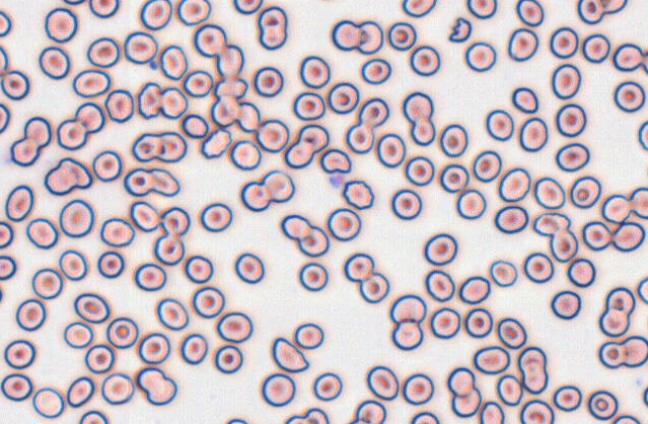PLT: (329, 174, 344, 190)
RBC: (43, 156, 92, 195), (135, 366, 177, 405), (517, 346, 548, 394), (58, 198, 94, 238), (256, 5, 287, 50), (260, 372, 295, 407), (326, 207, 361, 241), (44, 7, 77, 43), (216, 311, 253, 343), (193, 23, 227, 57), (255, 118, 289, 152), (123, 30, 157, 64), (423, 232, 457, 266), (366, 365, 399, 400), (72, 68, 110, 98), (4, 184, 34, 222), (261, 169, 295, 202), (100, 372, 134, 405), (191, 285, 225, 318), (155, 297, 189, 330), (498, 167, 530, 202), (375, 132, 406, 168), (73, 292, 109, 323), (550, 63, 581, 99), (389, 294, 426, 324), (472, 345, 510, 374), (401, 372, 434, 405), (38, 45, 70, 79), (86, 36, 120, 68), (158, 44, 188, 80), (99, 217, 135, 247), (518, 116, 548, 152), (296, 225, 329, 257), (25, 217, 58, 249), (327, 81, 359, 114), (613, 80, 645, 113), (137, 332, 170, 364), (569, 175, 601, 208), (533, 176, 565, 209), (611, 221, 645, 252), (507, 27, 538, 61), (555, 103, 586, 137), (214, 43, 244, 78), (104, 88, 134, 123), (555, 142, 590, 172), (155, 131, 187, 163), (56, 118, 88, 150), (200, 127, 232, 159), (31, 267, 63, 299), (390, 188, 422, 220), (408, 44, 440, 76), (106, 316, 138, 348), (341, 179, 374, 210), (91, 149, 122, 182), (299, 55, 330, 88), (424, 269, 455, 302), (32, 387, 65, 418), (15, 298, 46, 331), (74, 101, 105, 133), (330, 19, 361, 51), (402, 91, 433, 123), (391, 319, 423, 350), (358, 271, 389, 303), (229, 139, 261, 170), (129, 200, 160, 232), (357, 97, 389, 128), (153, 233, 184, 265), (523, 251, 554, 283), (496, 317, 527, 349), (429, 307, 460, 339), (464, 41, 496, 72), (199, 202, 232, 232), (139, 0, 172, 30), (472, 149, 502, 182), (549, 228, 578, 262), (439, 123, 468, 157), (494, 205, 528, 234), (450, 386, 481, 417), (84, 343, 115, 374), (455, 188, 486, 219), (587, 389, 618, 420), (210, 95, 240, 127), (234, 252, 264, 284), (3, 339, 35, 369), (58, 249, 88, 281), (159, 86, 188, 119), (292, 91, 325, 120), (458, 275, 491, 304), (137, 81, 162, 119), (532, 211, 570, 236), (149, 167, 180, 197), (240, 180, 270, 211), (598, 307, 629, 337), (343, 252, 374, 282), (582, 220, 612, 251), (253, 66, 283, 97), (404, 155, 434, 186), (550, 290, 581, 320), (131, 133, 163, 162), (297, 123, 329, 152), (134, 262, 166, 291), (549, 26, 578, 58), (485, 109, 514, 141), (0, 373, 33, 401), (180, 332, 208, 365), (356, 20, 383, 54), (176, 0, 211, 26), (160, 206, 190, 236), (298, 261, 328, 291), (601, 193, 631, 223), (213, 344, 243, 374), (312, 371, 342, 401), (439, 163, 469, 193), (566, 257, 596, 287), (123, 167, 154, 196), (9, 137, 40, 166), (283, 140, 314, 169), (0, 69, 29, 100), (345, 123, 374, 154), (612, 42, 643, 71), (464, 307, 493, 338), (23, 116, 51, 148), (495, 374, 523, 406), (605, 286, 635, 315), (446, 366, 475, 396), (387, 21, 416, 51), (581, 33, 610, 63), (182, 69, 213, 97), (360, 57, 391, 85), (66, 376, 94, 407), (319, 147, 351, 174), (184, 254, 213, 283), (519, 399, 554, 423), (552, 384, 582, 412), (280, 213, 311, 240), (293, 322, 324, 349), (621, 335, 647, 367), (235, 100, 261, 132), (214, 75, 248, 99), (352, 399, 386, 423), (598, 340, 627, 368), (63, 321, 93, 348), (96, 250, 124, 278), (489, 259, 517, 287), (515, 0, 544, 26), (511, 86, 538, 113), (410, 117, 435, 146), (284, 407, 329, 423), (181, 113, 209, 138), (577, 0, 604, 24), (478, 400, 504, 423), (401, 0, 436, 17), (629, 186, 647, 219), (466, 0, 497, 19), (88, 0, 119, 18), (233, 0, 263, 14), (0, 254, 16, 280), (0, 220, 14, 249), (599, 0, 627, 14), (78, 410, 108, 423), (410, 411, 439, 423), (0, 102, 10, 133), (0, 9, 11, 37), (636, 276, 647, 304), (637, 120, 647, 150), (611, 414, 640, 423), (0, 45, 8, 74), (640, 46, 648, 74), (225, 417, 248, 423), (62, 0, 85, 5), (643, 385, 648, 407)
Schistocyte: (272, 338, 309, 372), (449, 16, 472, 43)
